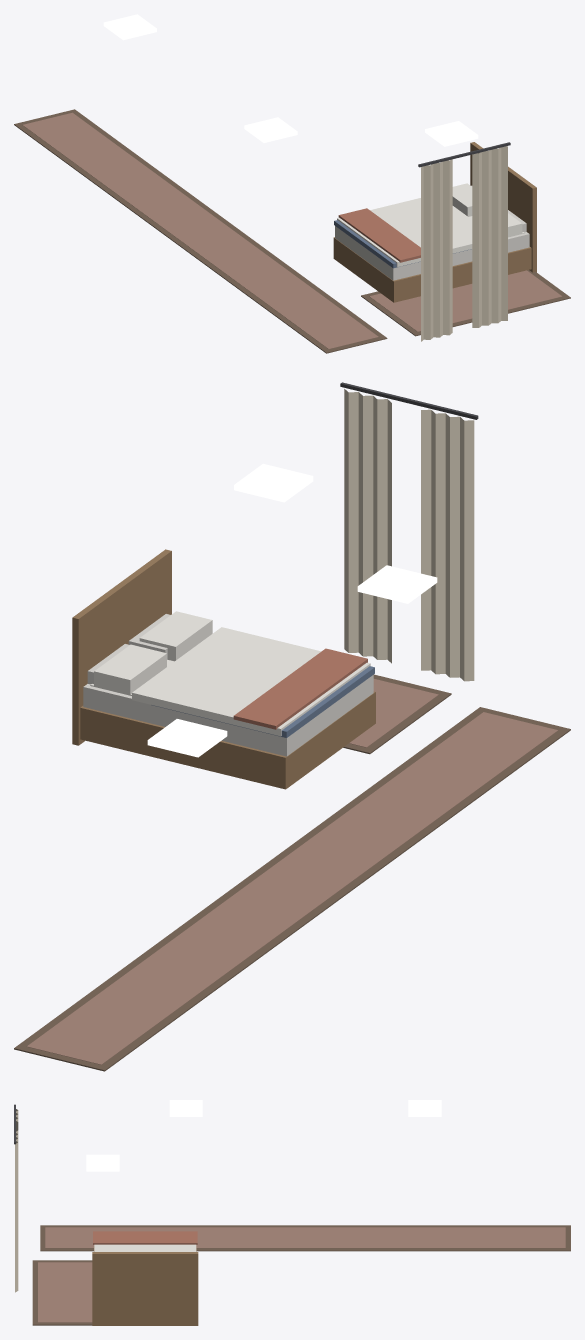
File: fine-s1.glb
The picture shows the model from 3 angles, top to bottom: view 1: azimuth 30°, elevation 25°; view 2: azimuth 150°, elevation 25°; view 3: azimuth 270°, elevation 25°; orthographic projection. The views are drawn at different scales.
Parts seen in each view (by area): view 1: soft-s1, bed-frame.000, ceiling-lamp.003, ceiling-lamp.004, ceiling-lamp.002; view 2: soft-s1, bed-frame.000, ceiling-lamp.003, ceiling-lamp.002, ceiling-lamp.004; view 3: soft-s1, bed-frame.000, ceiling-lamp.004, ceiling-lamp.002, ceiling-lamp.003.
Part boxes in pixels (left/top/right/bottom): soft-s1: left=14, top=109, right=570, bottom=353; bed-frame.000: left=333, top=142, right=536, bottom=302; ceiling-lamp.003: left=244, top=117, right=297, bottom=142; ceiling-lamp.004: left=425, top=121, right=478, bottom=146; ceiling-lamp.002: left=103, top=14, right=156, bottom=40; soft-s1: left=14, top=382, right=570, bottom=1071; bed-frame.000: left=72, top=549, right=375, bottom=789; ceiling-lamp.003: left=357, top=565, right=437, bottom=603; ceiling-lamp.002: left=147, top=719, right=227, bottom=757; ceiling-lamp.004: left=234, top=463, right=313, bottom=502; soft-s1: left=14, top=1104, right=570, bottom=1325; bed-frame.000: left=92, top=1246, right=198, bottom=1325; ceiling-lamp.004: left=86, top=1154, right=119, bottom=1171; ceiling-lamp.002: left=408, top=1100, right=441, bottom=1116; ceiling-lamp.003: left=169, top=1100, right=202, bottom=1116.
Size of the model in its own units: 3.57 by 2.55 by 8.4.
